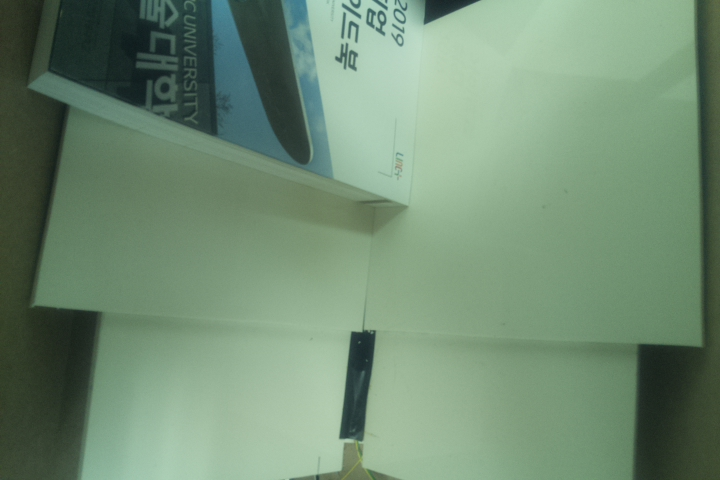book: (22, 1, 431, 211)
